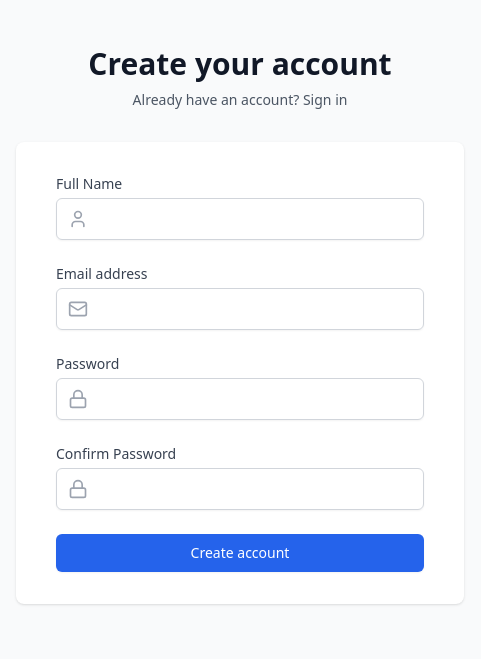
Register Component › shows error when passwords do not match
Type "Test User" into the field labelled "Full Name" at (240, 219), box [56,198,424,240]
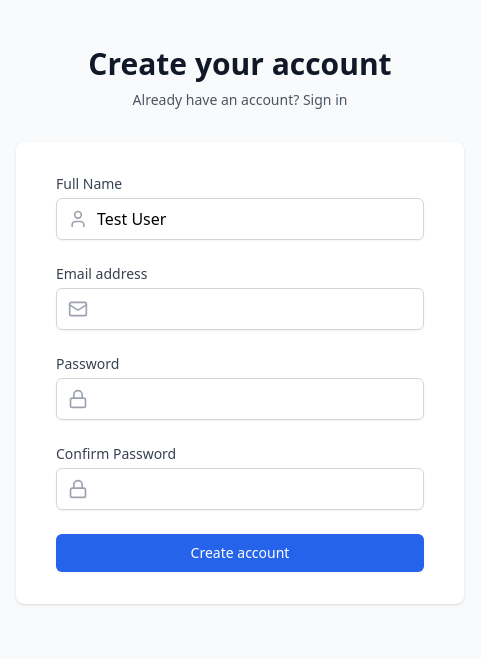
Type "test@example.com" into the field labelled "Email address" at (240, 309), box [56,288,424,330]
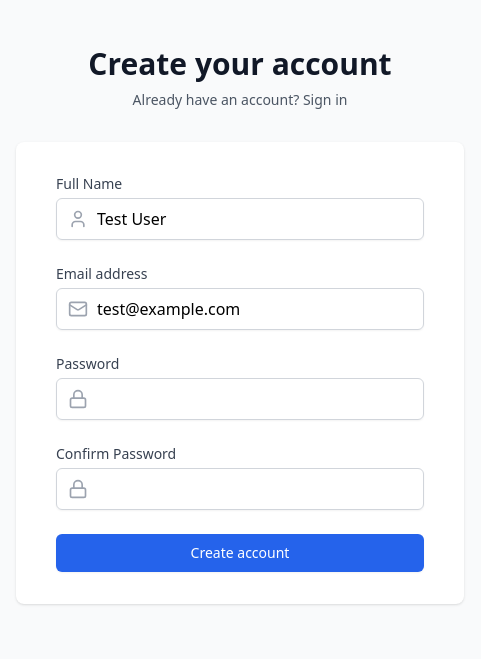
Type "password123" into the password field labelled "Password" at (240, 399), box [56,378,424,420]
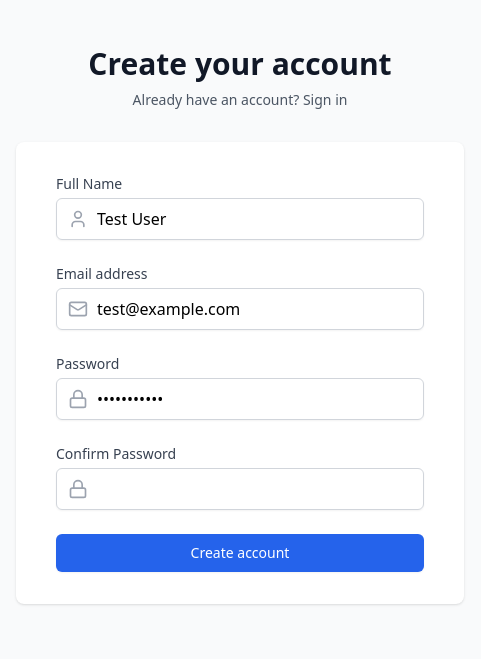
Type "different" into the password field labelled "Confirm Password" at (240, 489), box [56,468,424,510]
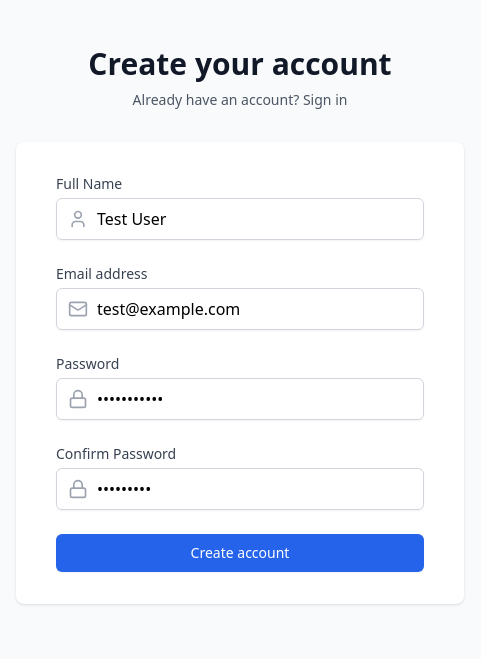
Click the button "Create account" at (240, 553), box [56,534,424,572]
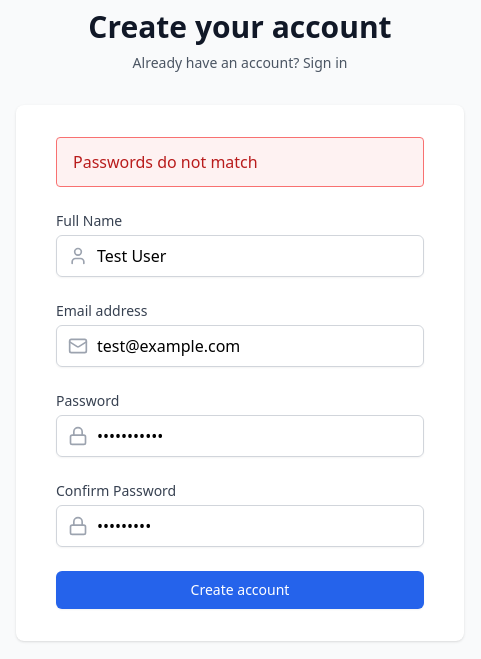
Check: the text "Passwords do not match" is shown, box [56,137,424,187]
